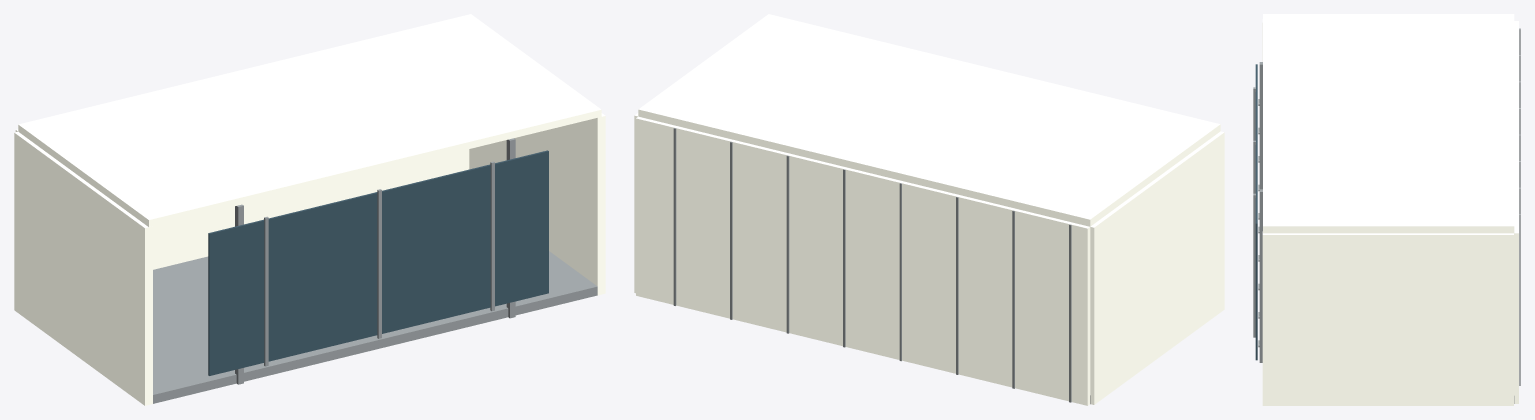
Rendered from endurance-and-gt-paddock-hospitality-unit-6178e5f5__14908.glb.
The picture shows the model from 3 angles, left to right: view 1: azimuth 30°, elevation 25°; view 2: azimuth 150°, elevation 25°; view 3: azimuth 270°, elevation 25°; orthographic projection. The views are drawn at different scales.
Parts seen in each view (by area): view 1: hospitality-unit; view 2: hospitality-unit; view 3: hospitality-unit.
Part boxes in pixels (x1,y1,x2,y2): hospitality-unit: [14, 14, 605, 405]; hospitality-unit: [634, 14, 1224, 405]; hospitality-unit: [1253, 14, 1520, 405].
Size of the model in its own units: 8.14 by 3.12 by 4.25.
